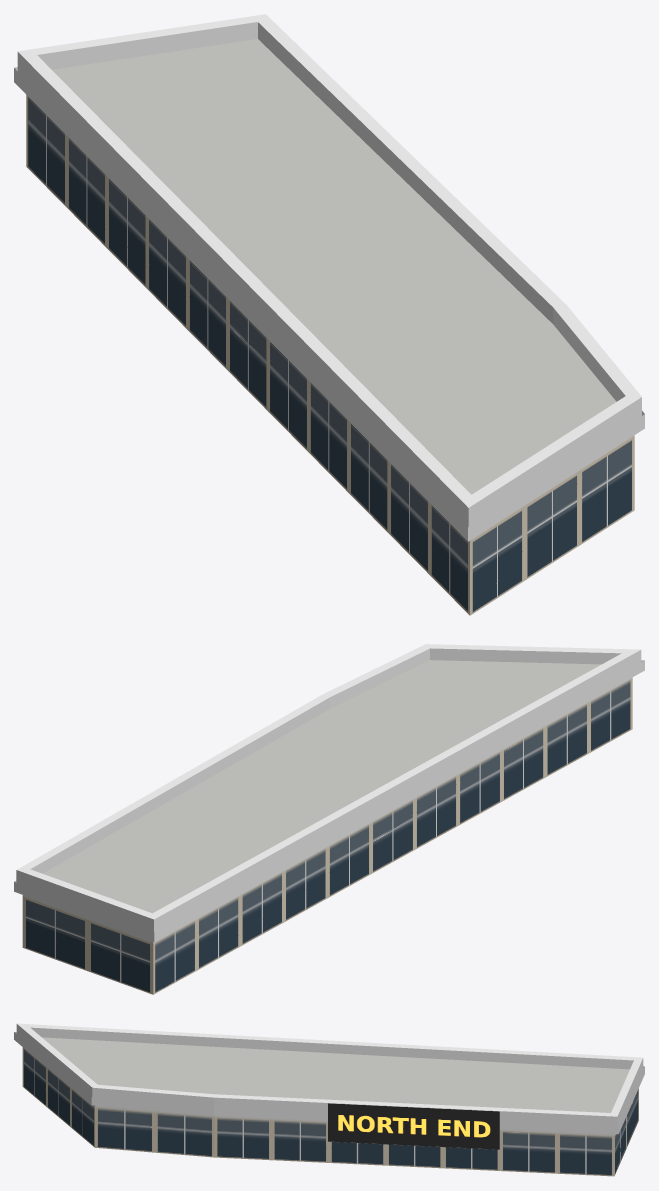
The model's file is northend.glb.
The picture shows the model from 3 angles, top to bottom: view 1: azimuth 30°, elevation 25°; view 2: azimuth 150°, elevation 25°; view 3: azimuth 270°, elevation 25°; orthographic projection. The views are drawn at different scales.
Visible parts, largest first — view 1: northend_lod0; view 2: northend_lod0; view 3: northend_lod0.
Boxes of the visible parts, bbox=[...] form: northend_lod0: bbox=[14, 14, 644, 615]; northend_lod0: bbox=[14, 644, 644, 994]; northend_lod0: bbox=[14, 1023, 644, 1176].
Size of what is drawn, in the model's own units: 15.52 by 4.77 by 43.72.
Materials: 4 (2 with a texture image).
